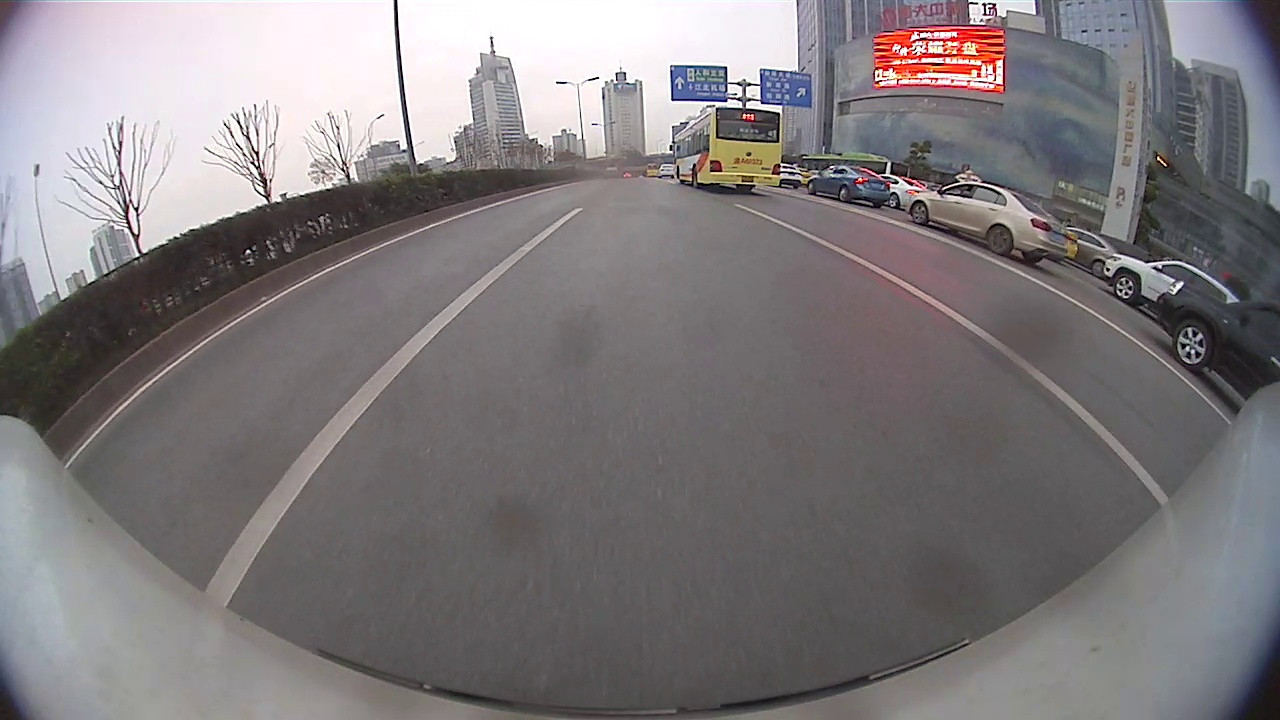bus: (667, 103, 785, 192)
car: (1153, 276, 1279, 404), (904, 177, 1071, 266), (1101, 251, 1243, 330), (805, 162, 893, 211)
front: (1171, 318, 1211, 373), (1113, 274, 1141, 307), (911, 204, 930, 228), (804, 181, 816, 195)
rear: (985, 225, 1014, 259), (1092, 261, 1110, 281), (838, 188, 849, 207), (889, 195, 902, 209)
